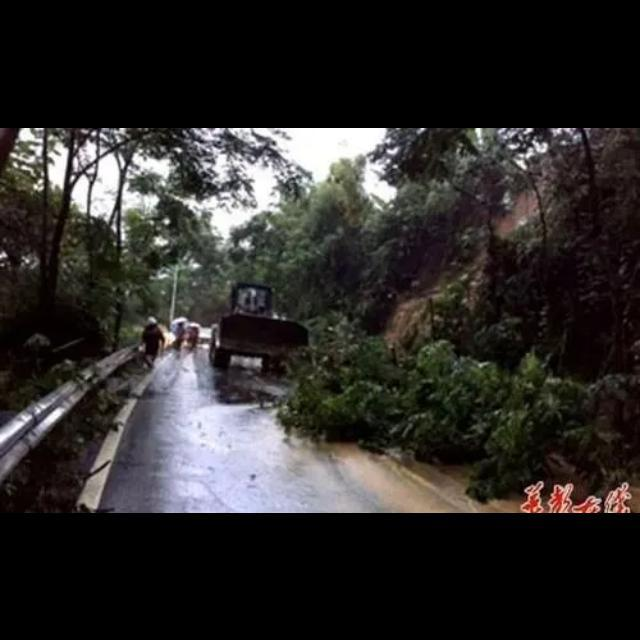fallen_tree: (272, 312, 634, 486)
